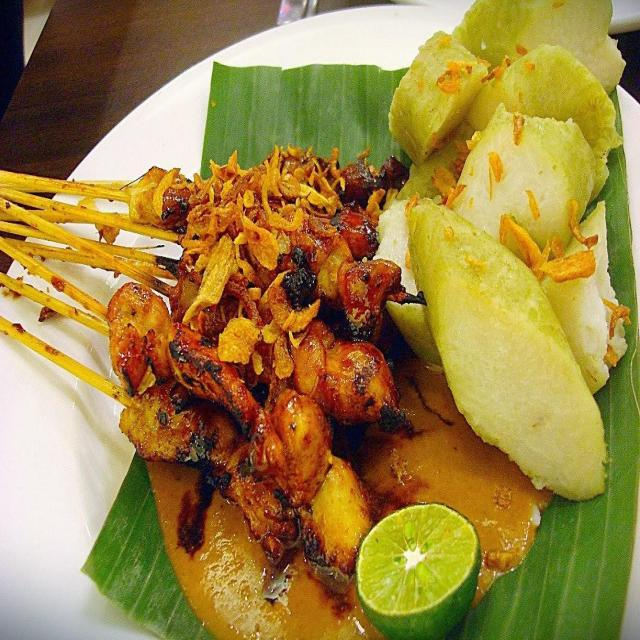Sate: (0, 90, 420, 567)
